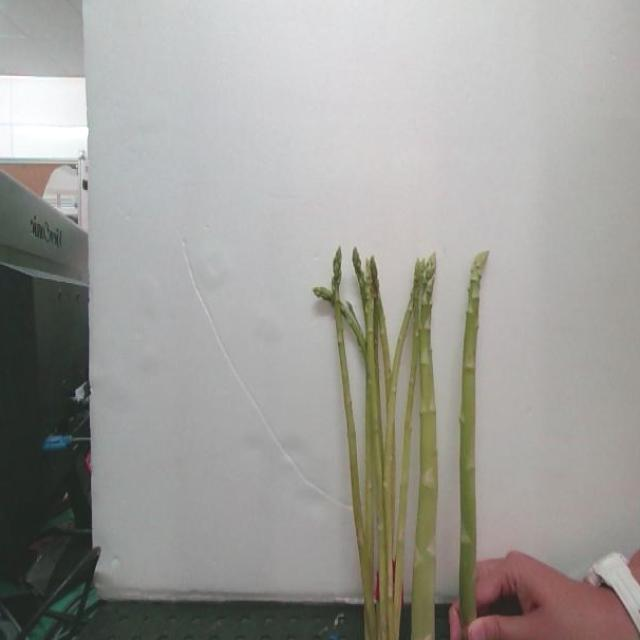aspargus: (436, 254, 489, 626)
